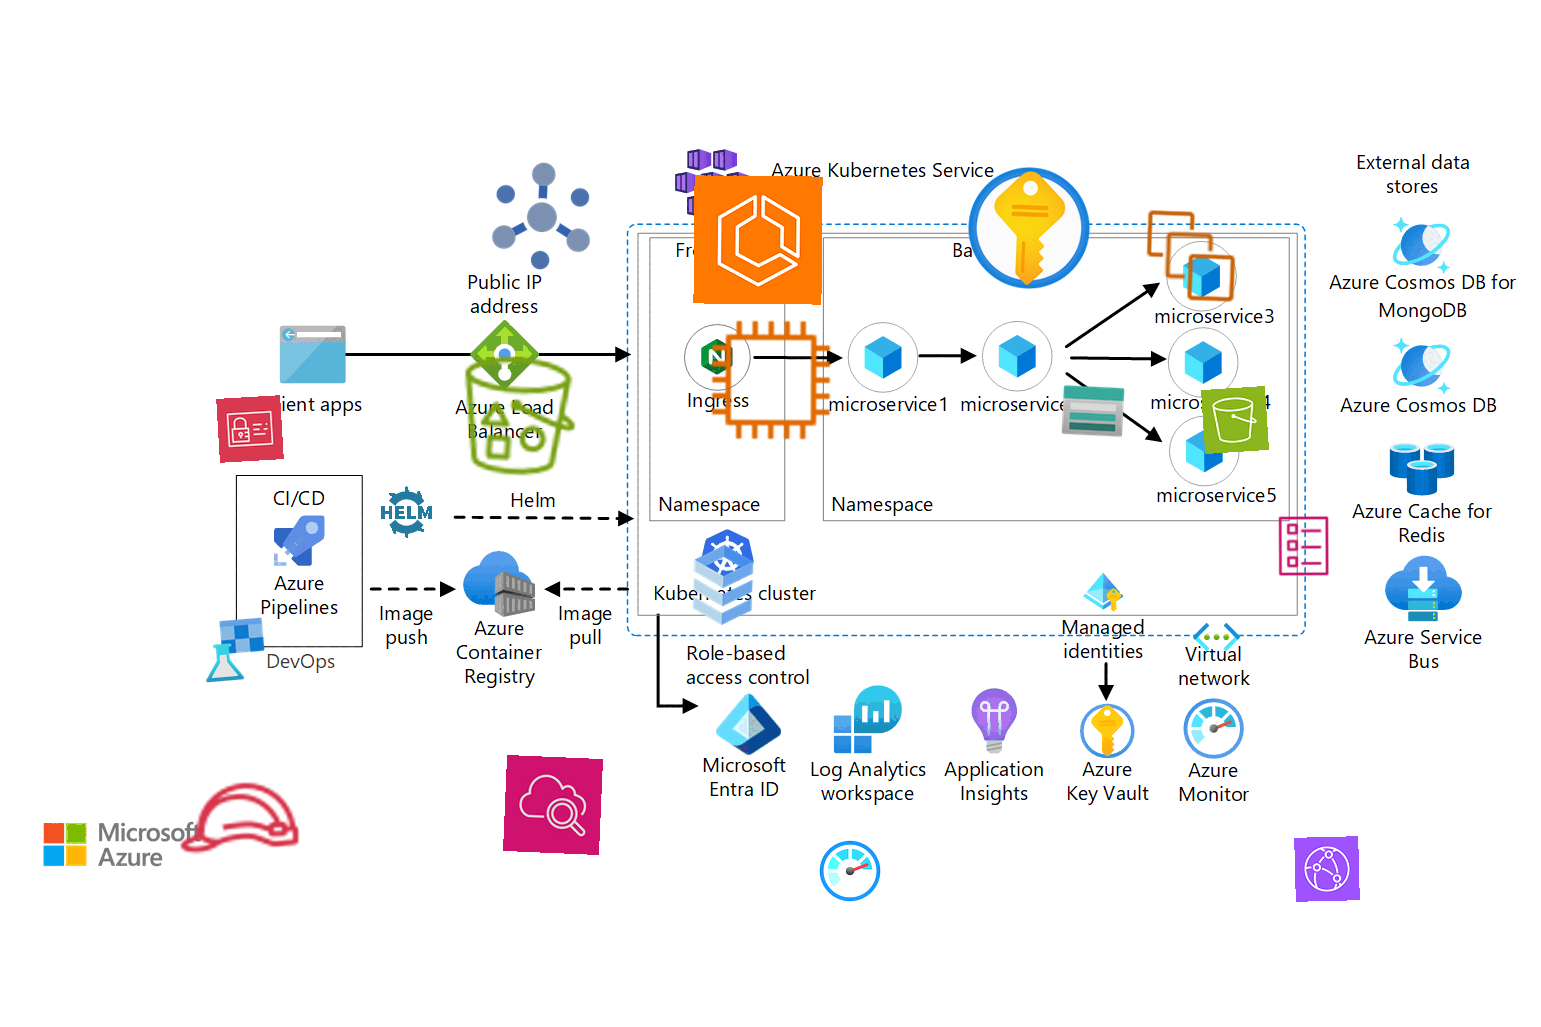aws_amazon_cloudfront: (1294, 836, 1360, 902)
aws_amazon_cloudwatch: (502, 754, 604, 856)
aws_amazon_elastic_container_service: (693, 175, 823, 305)
aws_amazon_simple_storage_service: (1200, 385, 1269, 455)
aws_cloudformation_template: (1269, 513, 1336, 579)
aws_ec2_instance: (706, 315, 836, 445)
aws_ec2_instances: (1141, 206, 1241, 306)
aws_identity_access_management_role: (173, 752, 305, 884)
aws_identity_and_access_management: (217, 395, 284, 463)
aws_simple_storage_service_bucket_with_objects: (451, 348, 587, 484)
azure_key_vaults: (962, 160, 1096, 295)
azure_machine_learning_studio_workspaces: (199, 616, 269, 685)
azure_monitor: (817, 838, 883, 904)
azure_storage_accounts: (1059, 377, 1127, 445)
gcp_cloud_sql: (673, 535, 773, 635)
gcp_pubsub: (475, 149, 610, 283)
